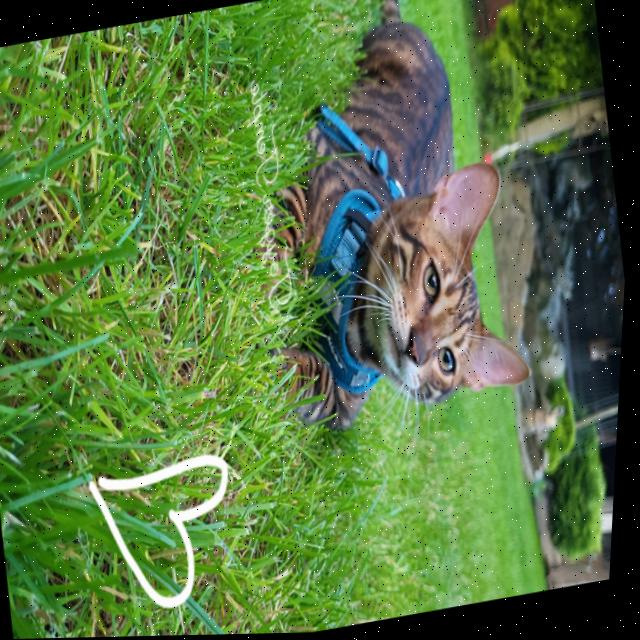Toyger: (200, 0, 562, 458)
